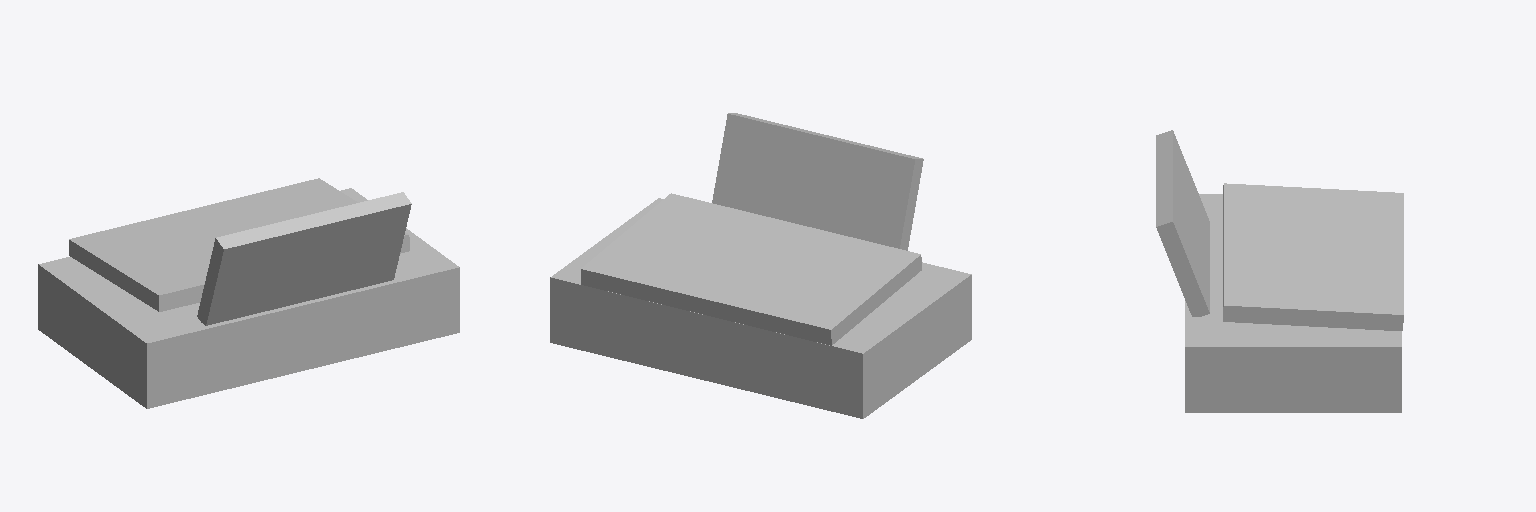
The model's file is cashRegister.obj.
3 views of the same model, side by side, from view 1: azimuth 30°, elevation 25°; view 2: azimuth 150°, elevation 25°; view 3: azimuth 270°, elevation 25° (orthographic).
Visible parts, largest first — view 1: CashRegister; view 2: CashRegister; view 3: CashRegister.
Part boxes in pixels (bbox=[...]): CashRegister: bbox=[38, 178, 459, 408]; CashRegister: bbox=[550, 113, 971, 418]; CashRegister: bbox=[1156, 130, 1403, 412].
Bounding box in the file's own units: 1 × 0.4906 × 0.6862.